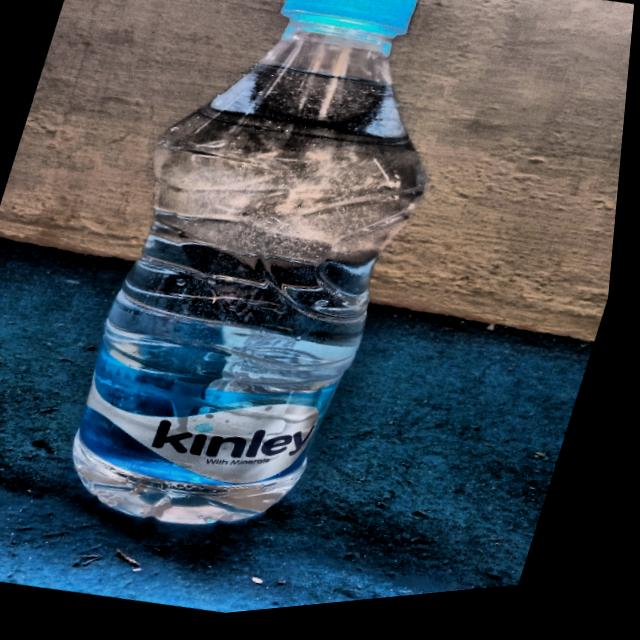Bottles: (23, 0, 506, 583)
